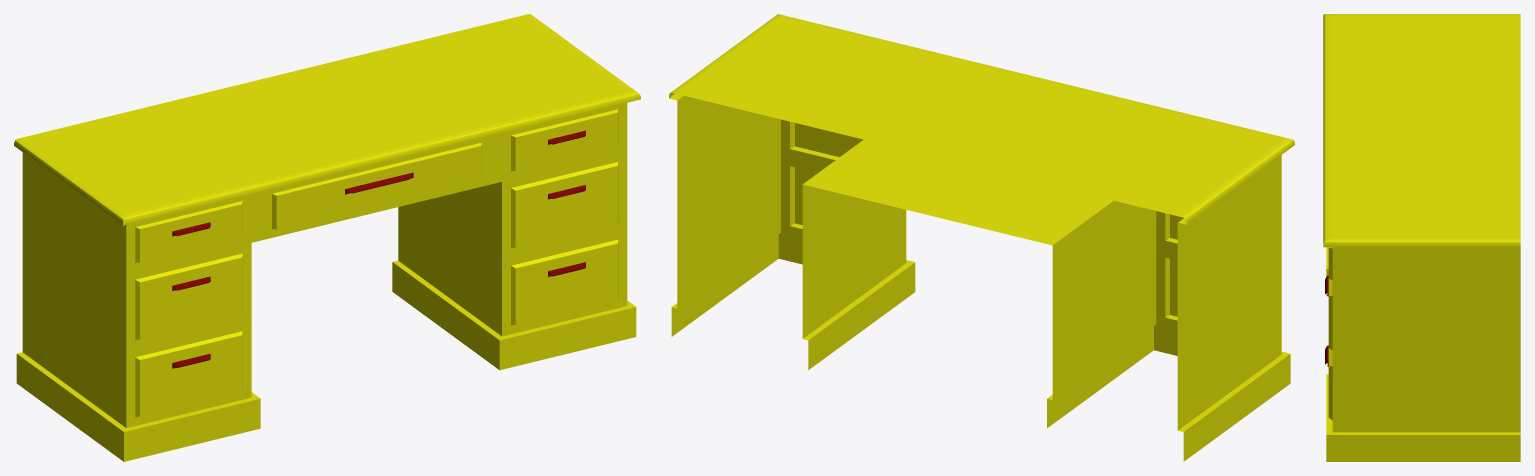
Rendered from FO_Desk.fbx.
The picture shows the model from 3 angles, left to right: view 1: azimuth 30°, elevation 25°; view 2: azimuth 150°, elevation 25°; view 3: azimuth 270°, elevation 25°; orthographic projection. The views are drawn at different scales.
Visible parts, largest first — view 1: Desk; view 2: Desk; view 3: Desk.
Boxes of the visible parts, x1,y1,x2,y2 form: Desk: (14,14,640,461); Desk: (669,14,1294,461); Desk: (1323,14,1520,461).
Size of the model in its own units: 1.98 by 0.8919 by 0.7199.
